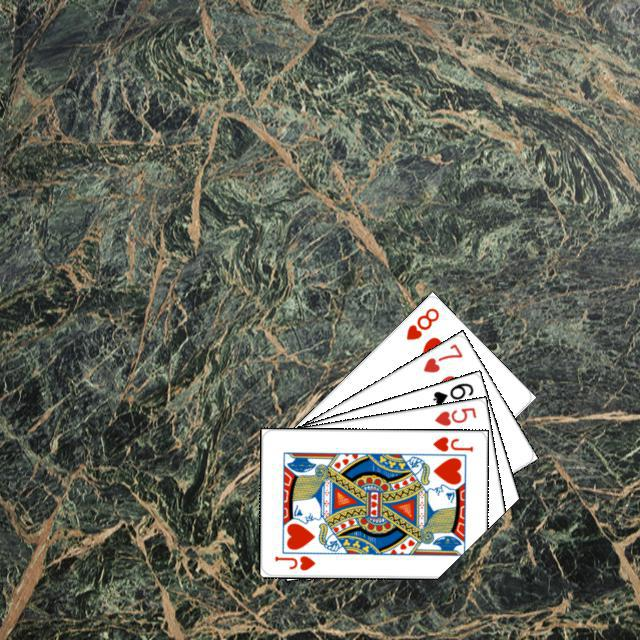5h: (429, 402, 478, 427)
6s: (428, 378, 475, 407)
7h: (418, 338, 464, 375)
8h: (401, 303, 441, 342)
Jh: (428, 432, 475, 453), (270, 551, 316, 572)
